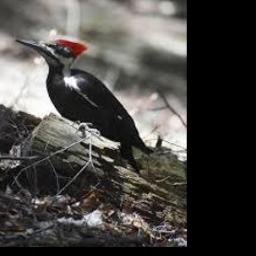Woodpecker: (16, 36, 153, 169)
